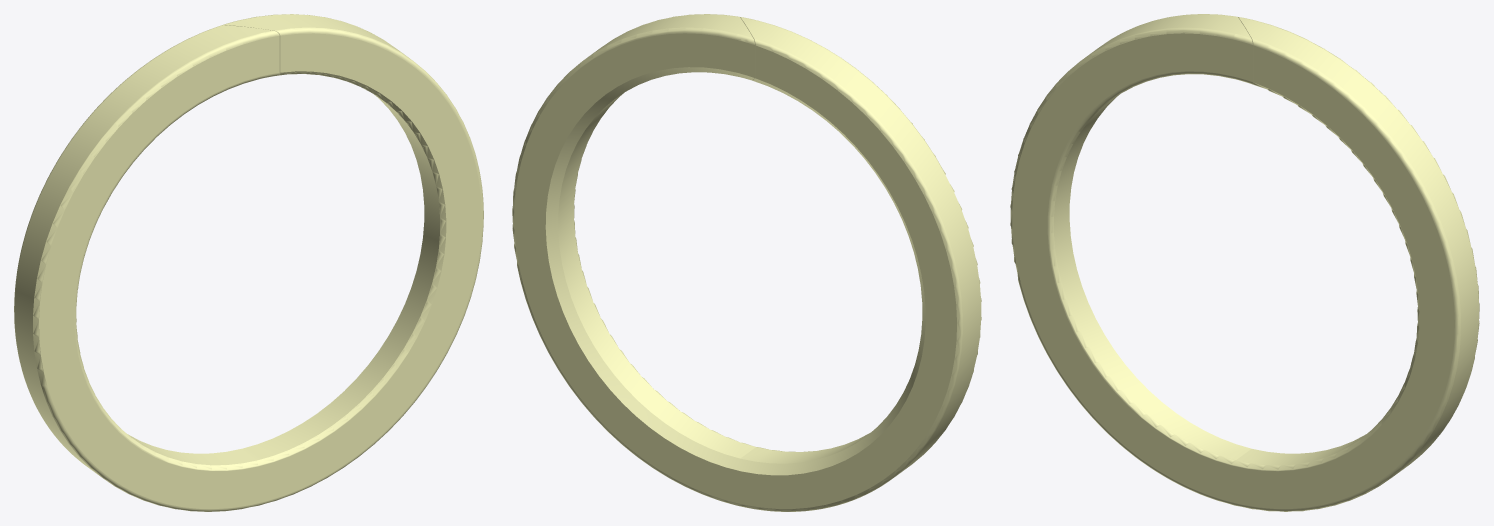
File: 462038_BACKUP RING.fbx
3 renders of one model, left to right at view 1: azimuth 30°, elevation 25°; view 2: azimuth 150°, elevation 25°; view 3: azimuth 330°, elevation 25°, orthographic.
Parts seen in each view (by area): view 1: meshes[0]; view 2: meshes[0]; view 3: meshes[0].
Boxes of the visible parts, x1,y1,x2,y2 form: meshes[0]: [14, 14, 483, 511]; meshes[0]: [512, 14, 981, 511]; meshes[0]: [1010, 14, 1479, 511].
Bounding box in the file's own units: 11.49 × 11.5 × 1.
